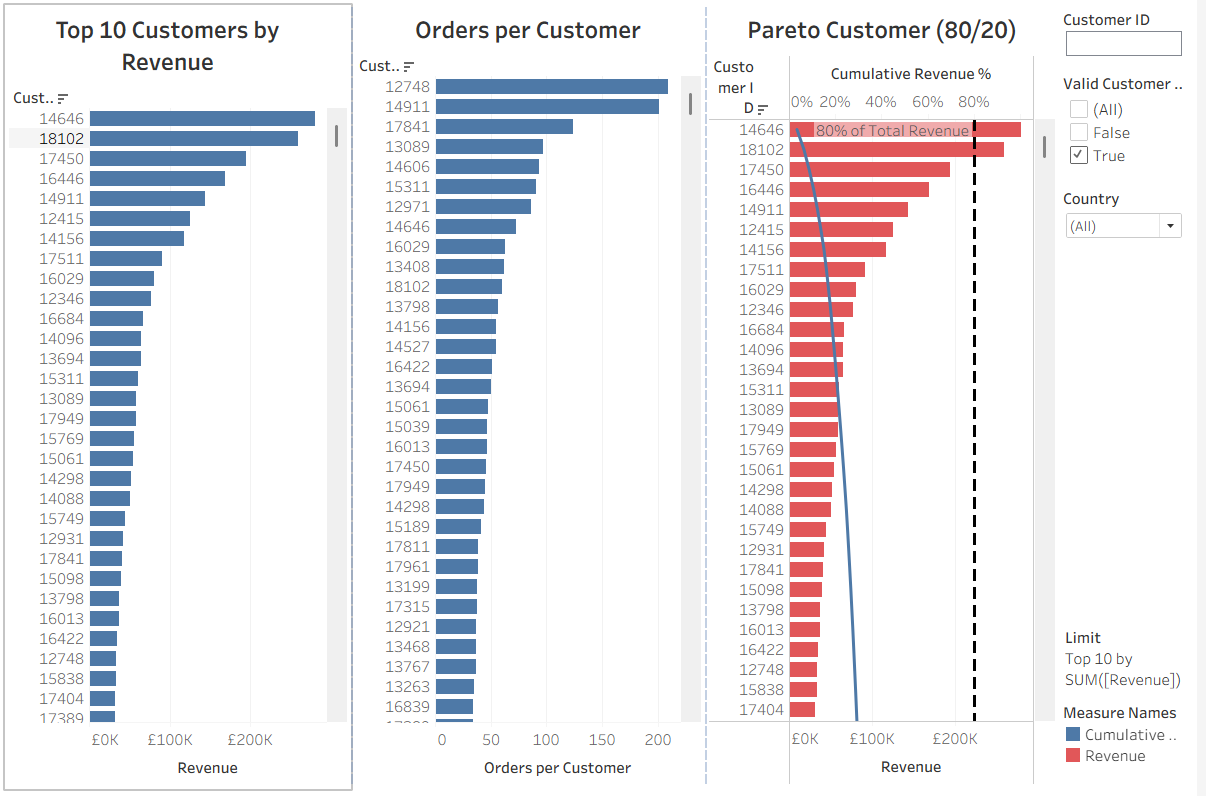

Layout of this report page (visuals, bound fields, positions):
{"tool":"tableau","page":{"name":"Customer Insights","canvas":[1200,800],"ordinal":0},"visuals":[{"type":"worksheet","title":"Top Customer by Revenue","mark":"Automatic","rows":["CustomerID"],"cols":["Revenue"],"box":[8,8,346,784]},{"type":"worksheet","title":"Customer Order Frequency","mark":"Bar","rows":["CustomerID"],"cols":["Calculation_2013783098306560"],"box":[354,8,354,784]},{"type":"worksheet","title":"Pareto Customer (80/20)","mark":"Bar","rows":["CustomerID"],"cols":["Revenue"],"box":[708,8,354,784]},{"type":"filter","title":"Customer Order Frequency","param":"[federated.08bz8h319zoiio131hh471t4ru6s].[none:CustomerID:ok]","box":[1062,8,130,64]},{"type":"filter","title":"Pareto Customer (80/20)","param":"[federated.08bz8h319zoiio131hh471t4ru6s].[none:Calculation_2013783111176198:nk]","box":[1062,72,130,115]},{"type":"filter","title":"Top Customer by Revenue","param":"[federated.08bz8h319zoiio131hh471t4ru6s].[none:Country:nk]","box":[1062,187,130,514]},{"type":"legend","title":"Pareto Customer (80/20)","param":"[federated.08bz8h319zoiio131hh471t4ru6s].[:Measure Names]","box":[1062,701,130,91]}]}

Visuals, with their boxes in screenshot pixels (x1, y1, x2, y2), scaled from the page's 1200x800 canvas onto the 1206x796 screenshot:
"Top Customer by Revenue" worksheet: x1=8 y1=8 x2=356 y2=788
"Customer Order Frequency" worksheet (Bar marks): x1=356 y1=8 x2=712 y2=788
"Pareto Customer (80/20)" worksheet (Bar marks): x1=712 y1=8 x2=1067 y2=788
"Customer Order Frequency" filter: x1=1067 y1=8 x2=1198 y2=72
"Pareto Customer (80/20)" filter: x1=1067 y1=72 x2=1198 y2=186
"Top Customer by Revenue" filter: x1=1067 y1=186 x2=1198 y2=697
"Pareto Customer (80/20)" legend: x1=1067 y1=697 x2=1198 y2=788
